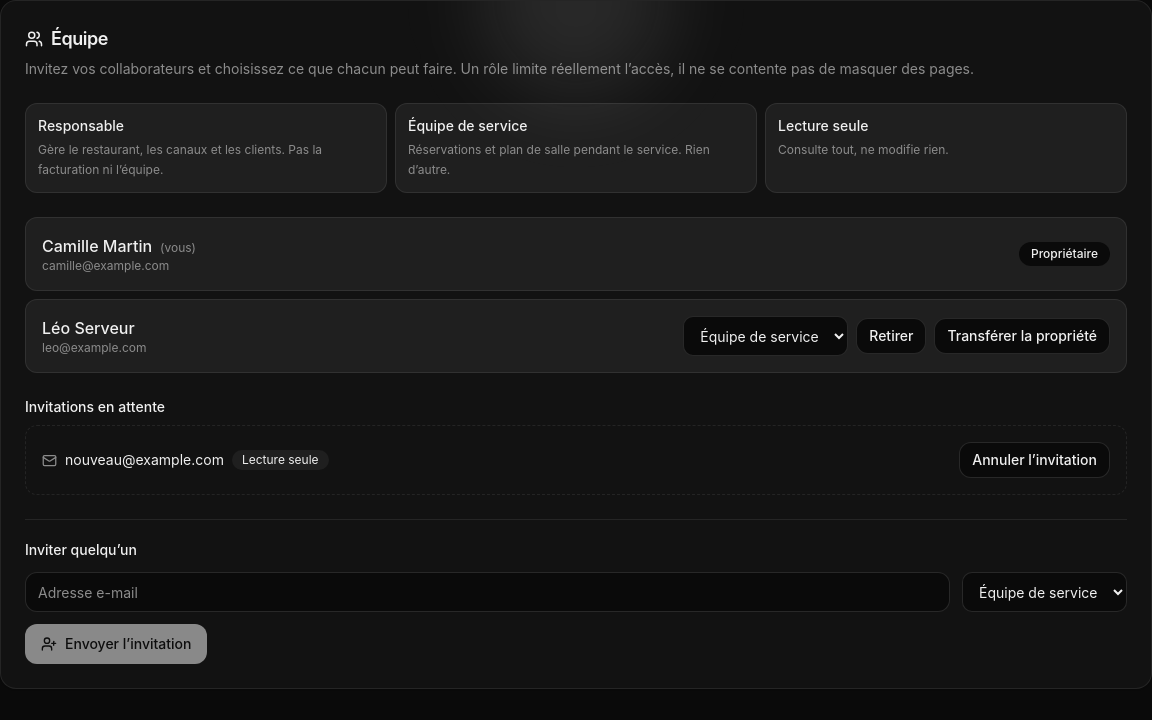
Test: invite avec le rôle choisi puis recharge l’équipe
Expected: the text "Léo Serveur" is shown, [42,316,146,340]
In the field named "Adresse e-mail à inviter": (488, 592) [25,572,950,612], type "marie@example.com"
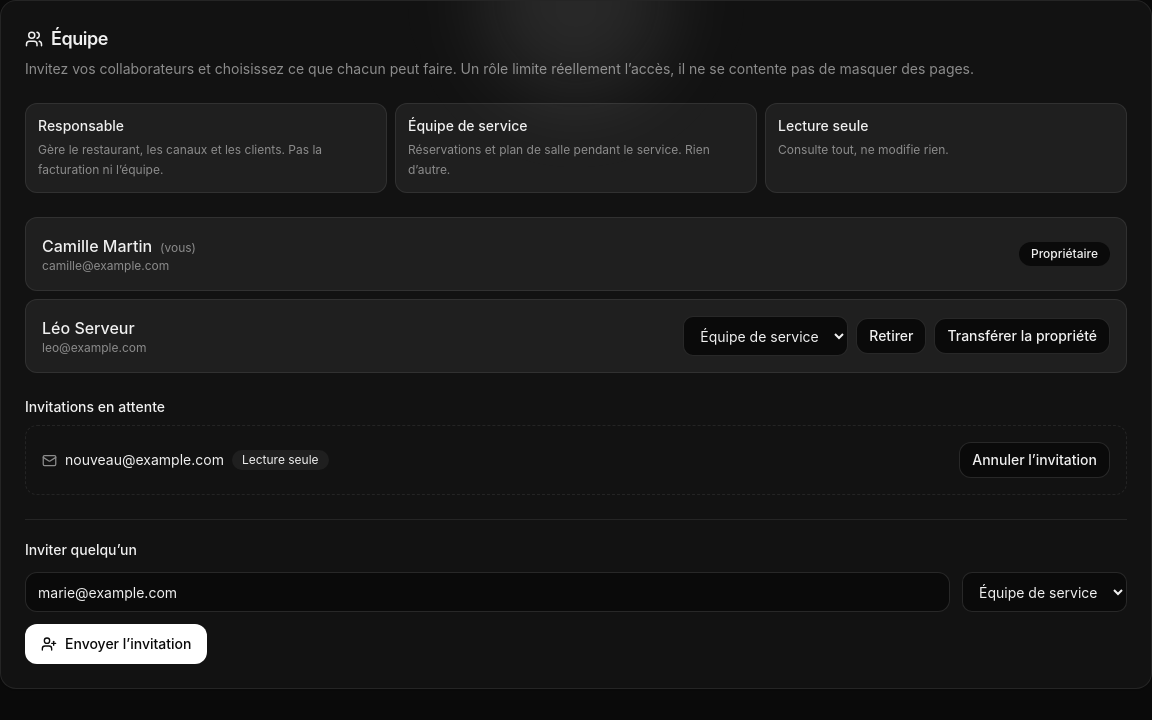
Select "Responsable" in the dropdown named "Rôle de la personne invitée": (1044, 592) [962,572,1127,612]
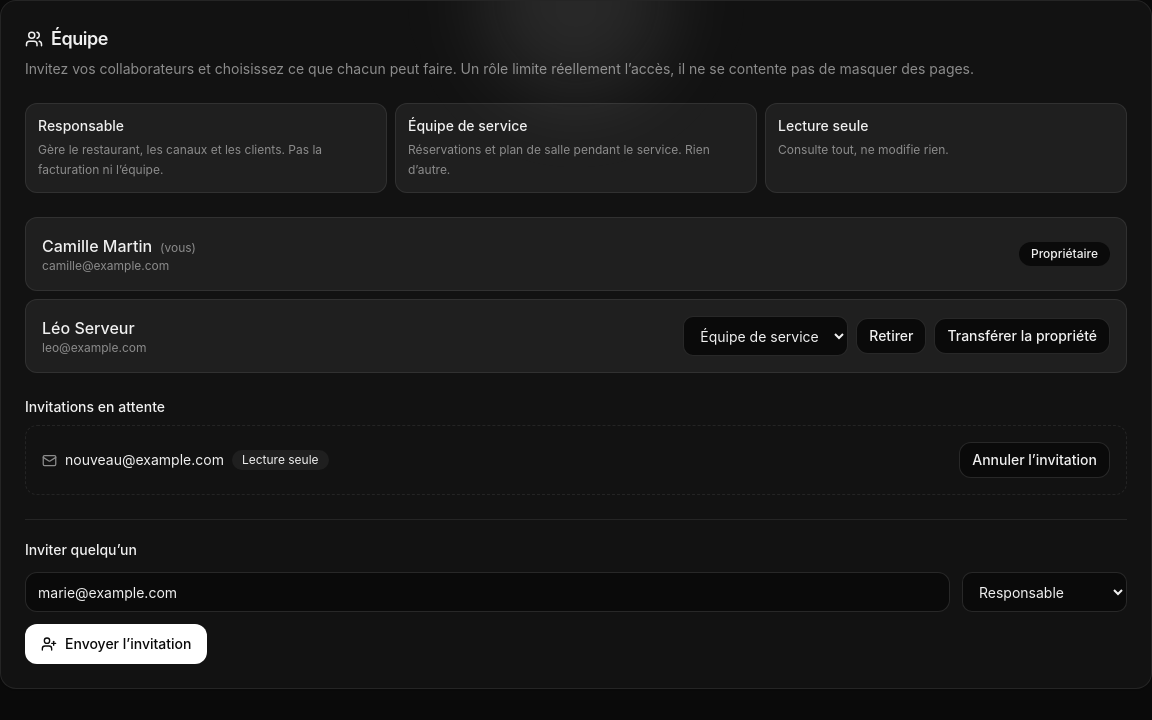
Click the button "Envoyer l’invitation": (116, 644) [25,624,207,664]
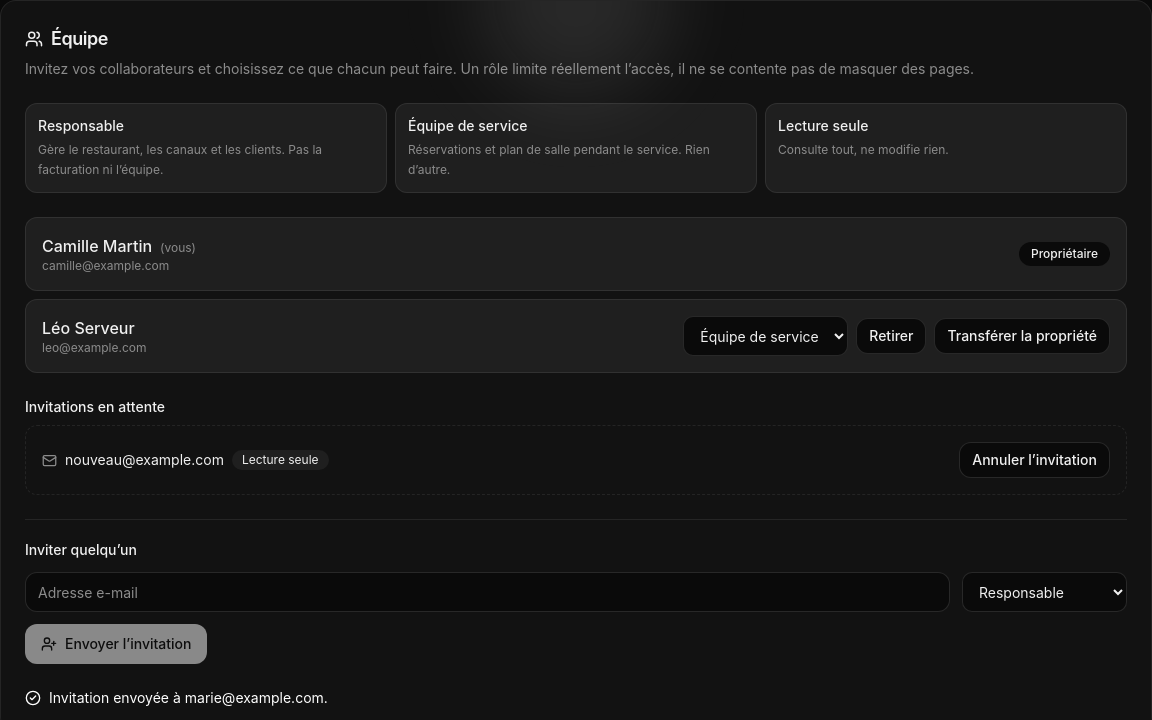
Now the text "Invitation envoyée à marie@example.com." is shown, box [25,689,328,706]
Now the field named "Adresse e-mail à inviter" is empty, box [25,572,950,612]
